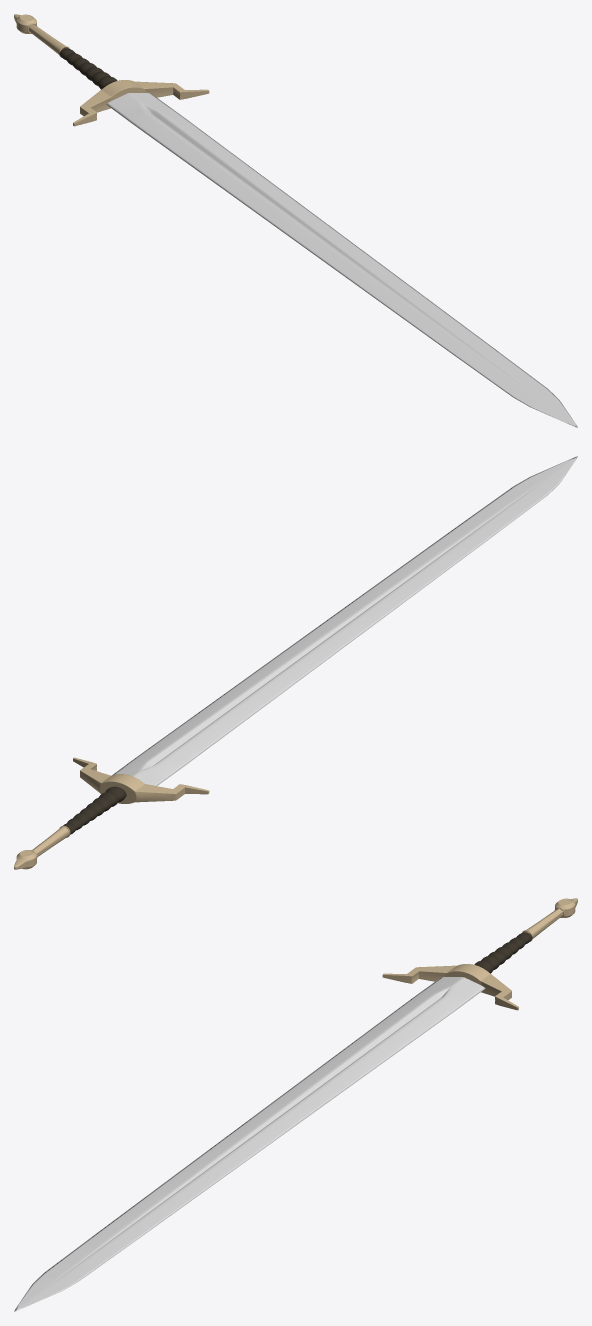
The model's file is main_sword.fbx.
3 renders of one model, top to bottom at view 1: azimuth 30°, elevation 25°; view 2: azimuth 150°, elevation 25°; view 3: azimuth 330°, elevation 25°, orthographic.
Visible parts, largest first — view 1: blade, gaurd, handle; view 2: blade, gaurd, handle; view 3: blade, gaurd, handle.
Part boxes in pixels (x1,y1,x2,y2): blade: (106, 93, 577, 427); gaurd: (73, 80, 209, 126); handle: (59, 48, 117, 89); blade: (112, 456, 577, 785); gaurd: (73, 757, 209, 803); handle: (63, 786, 126, 834); blade: (14, 977, 485, 1311); gaurd: (382, 964, 518, 1010); handle: (474, 932, 532, 973).
Size of the model in its own units: 1541 by 229 by 11104.
